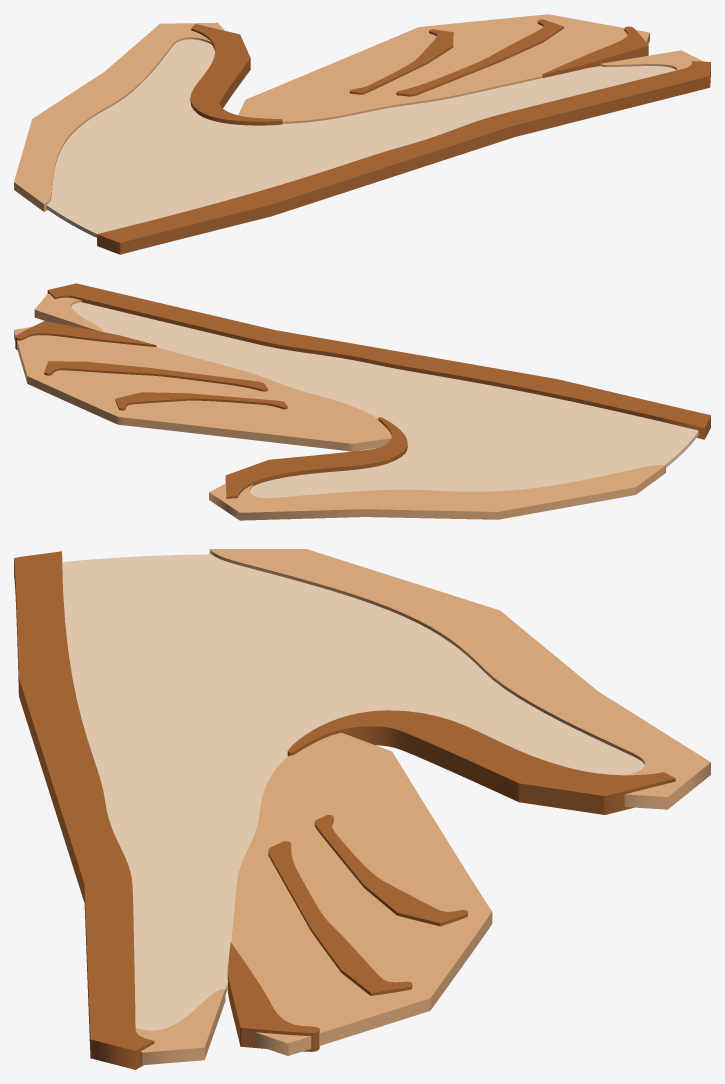
File: emoji_u1faf4_1f3fb.glb
The picture shows the model from 3 angles, top to bottom: view 1: azimuth 30°, elevation 25°; view 2: azimuth 150°, elevation 25°; view 3: azimuth 270°, elevation 25°; orthographic projection. The views are drawn at different scales.
Parts seen in each view (by area): view 1: emoji_u1faf4_1f3fb; view 2: emoji_u1faf4_1f3fb; view 3: emoji_u1faf4_1f3fb.
Part boxes in pixels (x1,y1,x2,y2): emoji_u1faf4_1f3fb: (14,14,710,254); emoji_u1faf4_1f3fb: (14,283,710,520); emoji_u1faf4_1f3fb: (14,549,710,1069).
Bounding box in the file's own units: 0.0343 × 0.0006 × 0.02.
